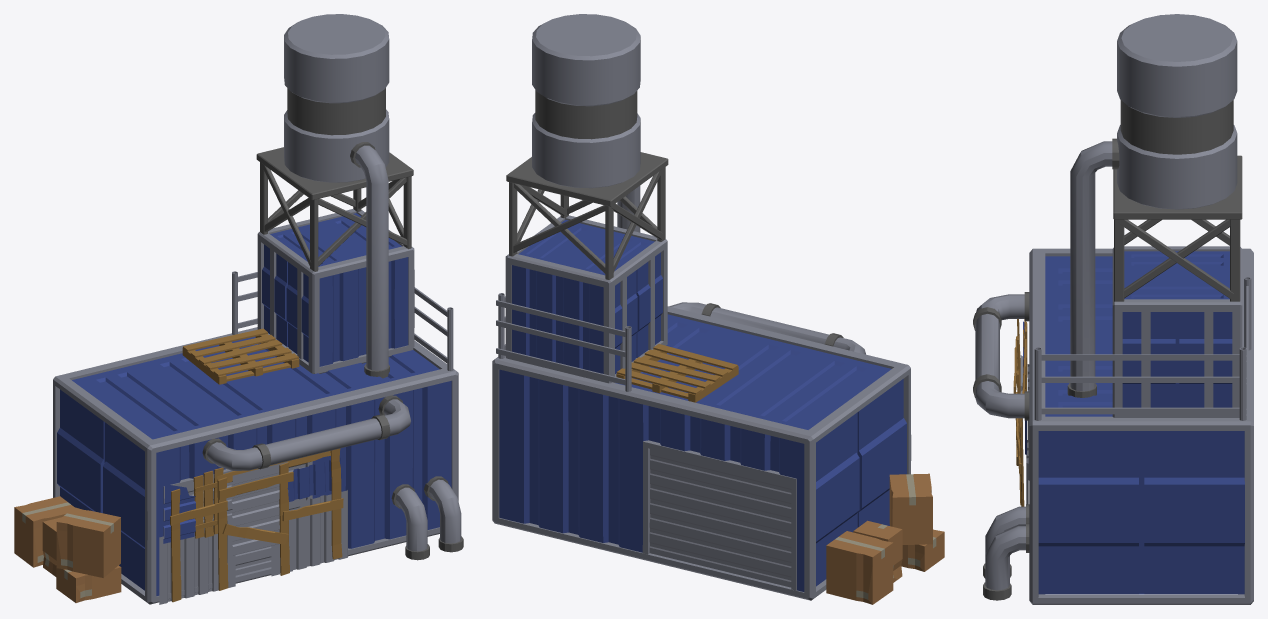
Rendered from Structure.glb.
3 renders of one model, left to right at view 1: azimuth 30°, elevation 25°; view 2: azimuth 150°, elevation 25°; view 3: azimuth 270°, elevation 25°, orthographic. The views are drawn at different scales.
Visible parts, largest first — view 1: Structure; view 2: Structure; view 3: Structure.
Boxes of the visible parts, x1,y1,x2,y2 form: Structure: [14, 14, 463, 604]; Structure: [492, 14, 944, 604]; Structure: [973, 14, 1253, 604].
Bounding box in the file's own units: 2.77 × 3.35 × 1.59.
